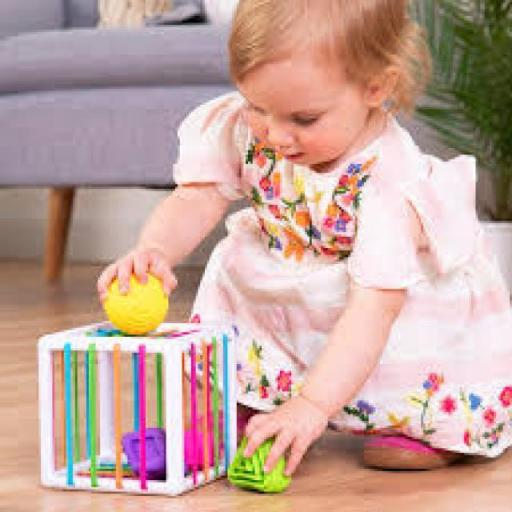baby: (98, 0, 512, 470)
